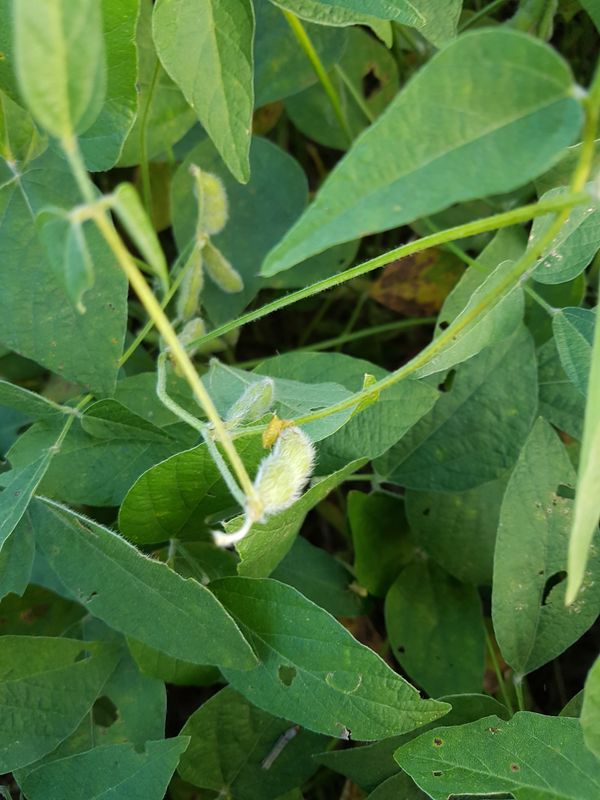Euschistus_heros_ninfa: (252, 408, 303, 456)
Spodoptera_albula: (255, 720, 307, 777)
